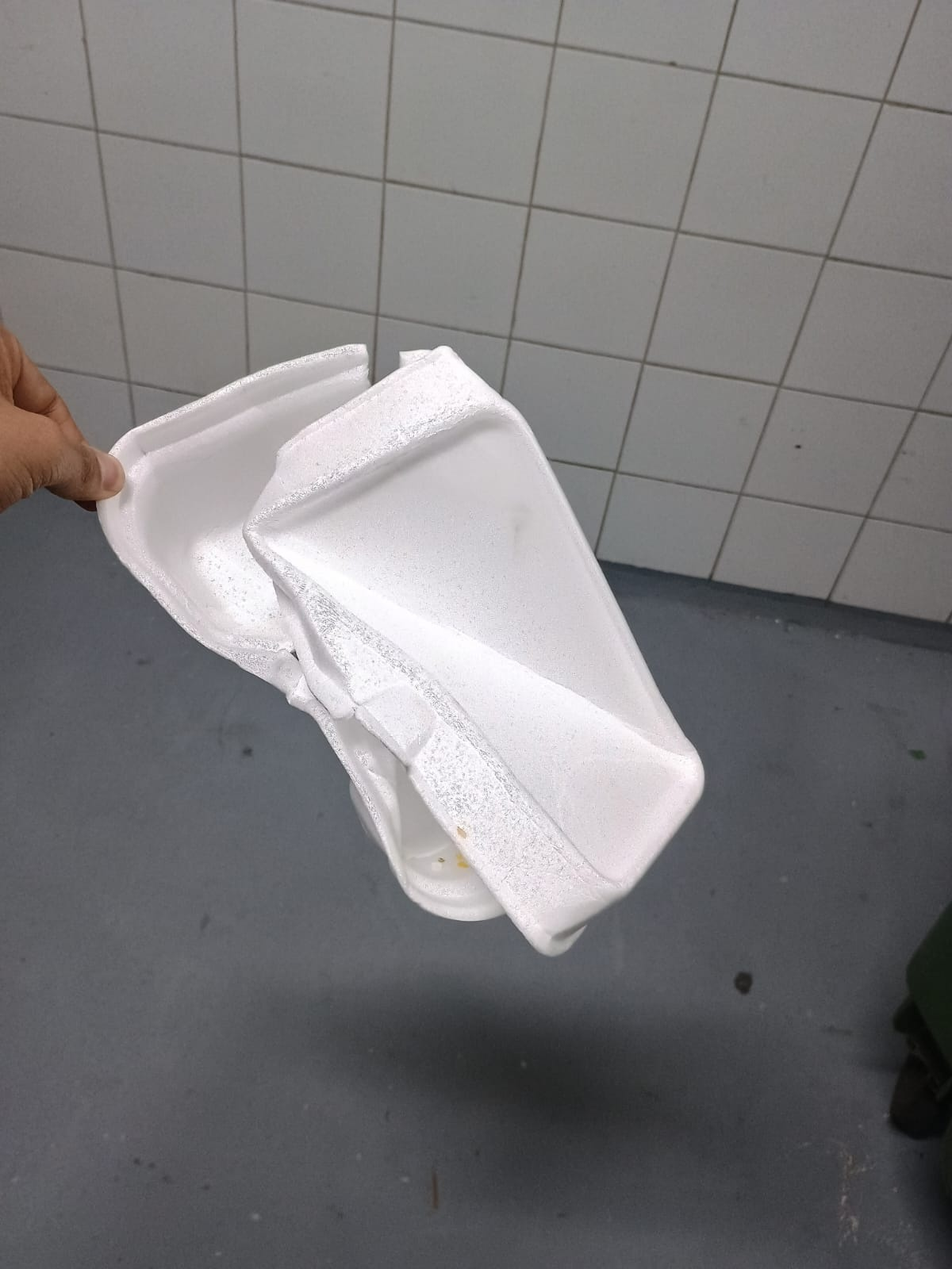Ordinario: (94, 345, 706, 956)
